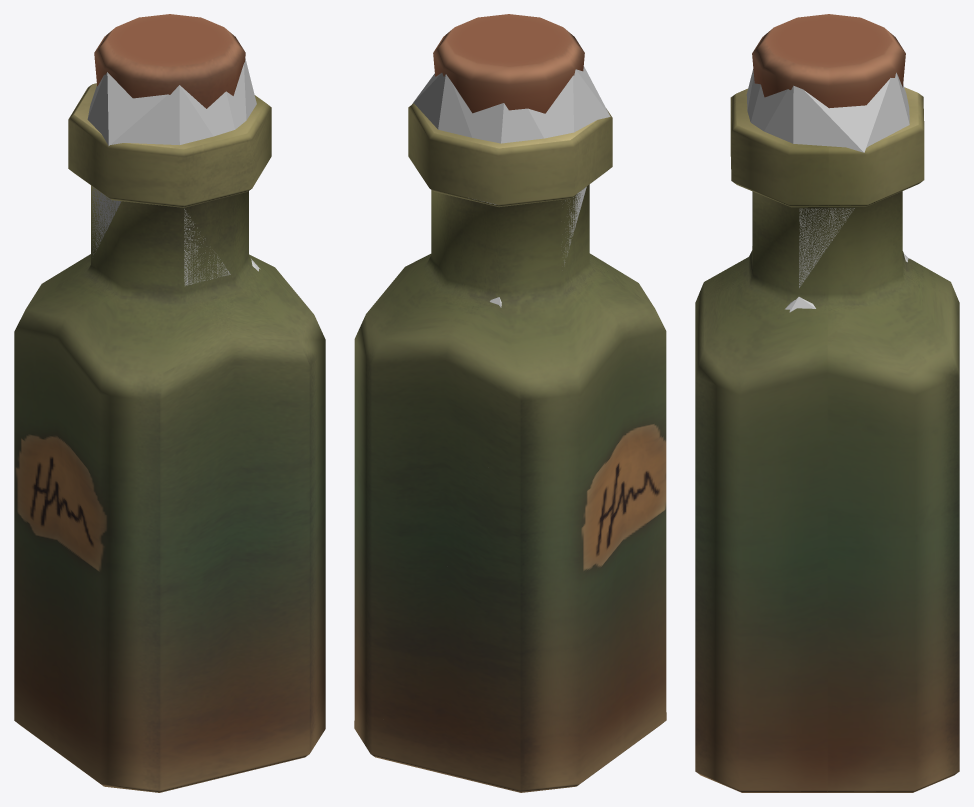
File: SM_Bottle_e.fbx
3 renders of one model, left to right at view 1: azimuth 30°, elevation 25°; view 2: azimuth 150°, elevation 25°; view 3: azimuth 270°, elevation 25°, orthographic.
Visible parts, largest first — view 1: SM_Bottle_e, SM_Bottle_e_ConvexHulls; view 2: SM_Bottle_e, SM_Bottle_e_ConvexHulls; view 3: SM_Bottle_e, SM_Bottle_e_ConvexHulls.
Boxes of the visible parts, x1,y1,x2,y2 form: SM_Bottle_e: [14, 14, 325, 792]; SM_Bottle_e_ConvexHulls: [87, 58, 260, 285]; SM_Bottle_e: [354, 14, 666, 792]; SM_Bottle_e_ConvexHulls: [412, 66, 610, 307]; SM_Bottle_e: [695, 14, 959, 792]; SM_Bottle_e_ConvexHulls: [746, 69, 909, 312].
Bounding box in the file's own units: 19.95 × 19.95 × 58.26.
2 materials, 1 textured.
